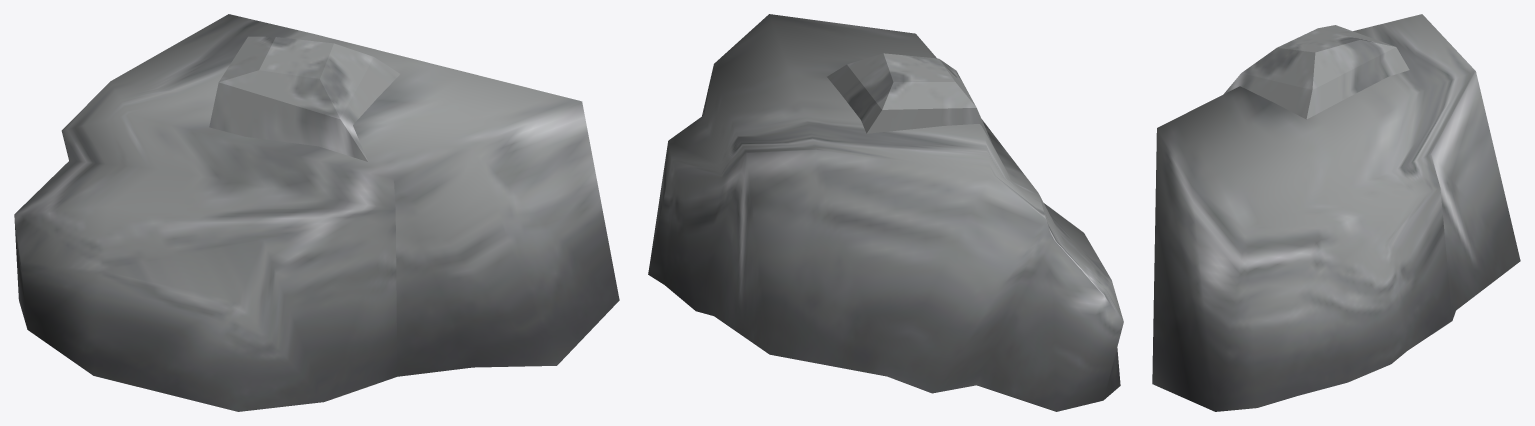
Rendered from Stone.fbx.
3 views of the same model, side by side, from view 1: azimuth 30°, elevation 25°; view 2: azimuth 150°, elevation 25°; view 3: azimuth 270°, elevation 25° (orthographic). The views are drawn at different scales.
Parts seen in each view (by area): view 1: A_Stones_MountainsSide_2; view 2: A_Stones_MountainsSide_2; view 3: A_Stones_MountainsSide_2.
Boxes of the visible parts, box(x1,y1,x2,y2) form: A_Stones_MountainsSide_2: box(14, 14, 619, 411); A_Stones_MountainsSide_2: box(648, 14, 1123, 411); A_Stones_MountainsSide_2: box(1152, 14, 1520, 411).
Bounding box in the file's own units: 0.2646 × 0.1426 × 0.1753.
